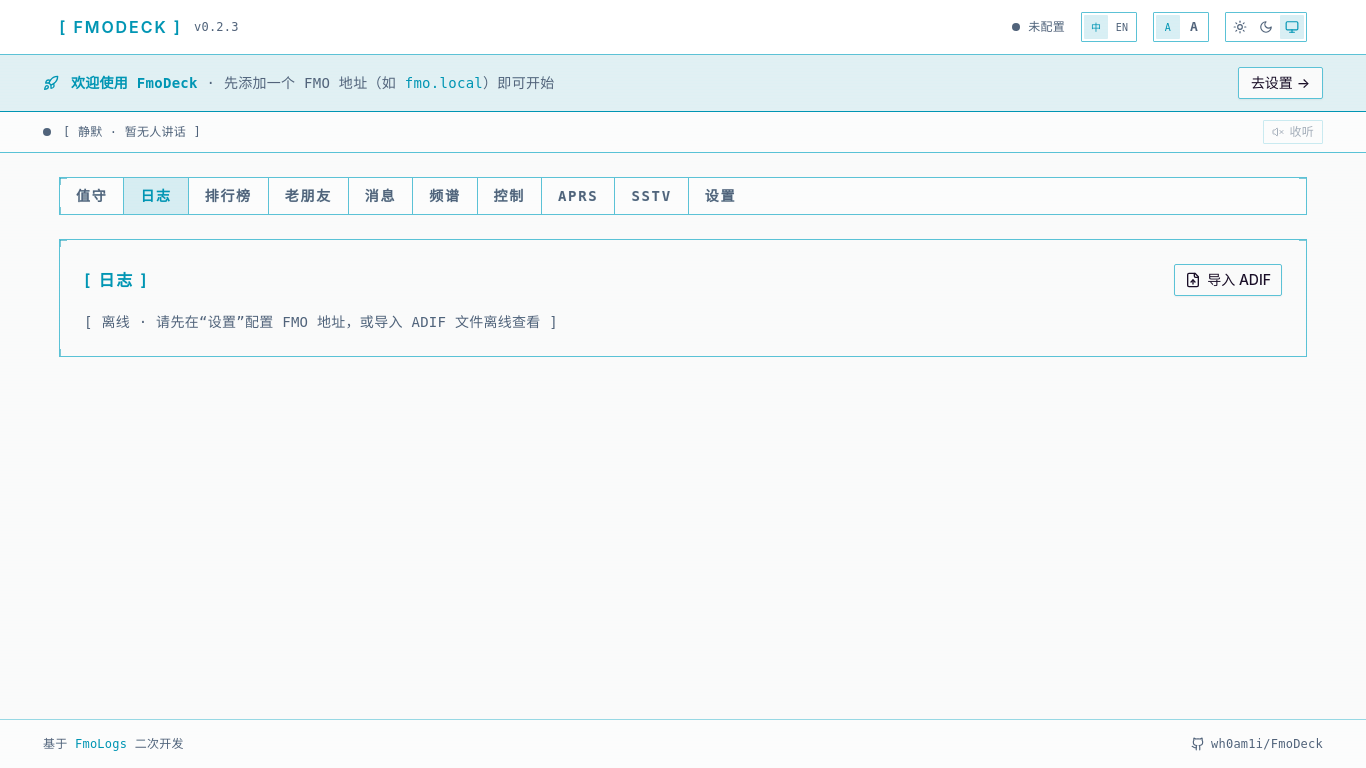
Test: App 烟雾测试 › Nav 跳 SSTV，显示 offline 提示
Click the link "SSTV".
click(652, 196)  # box left=615, top=178, right=689, bottom=214
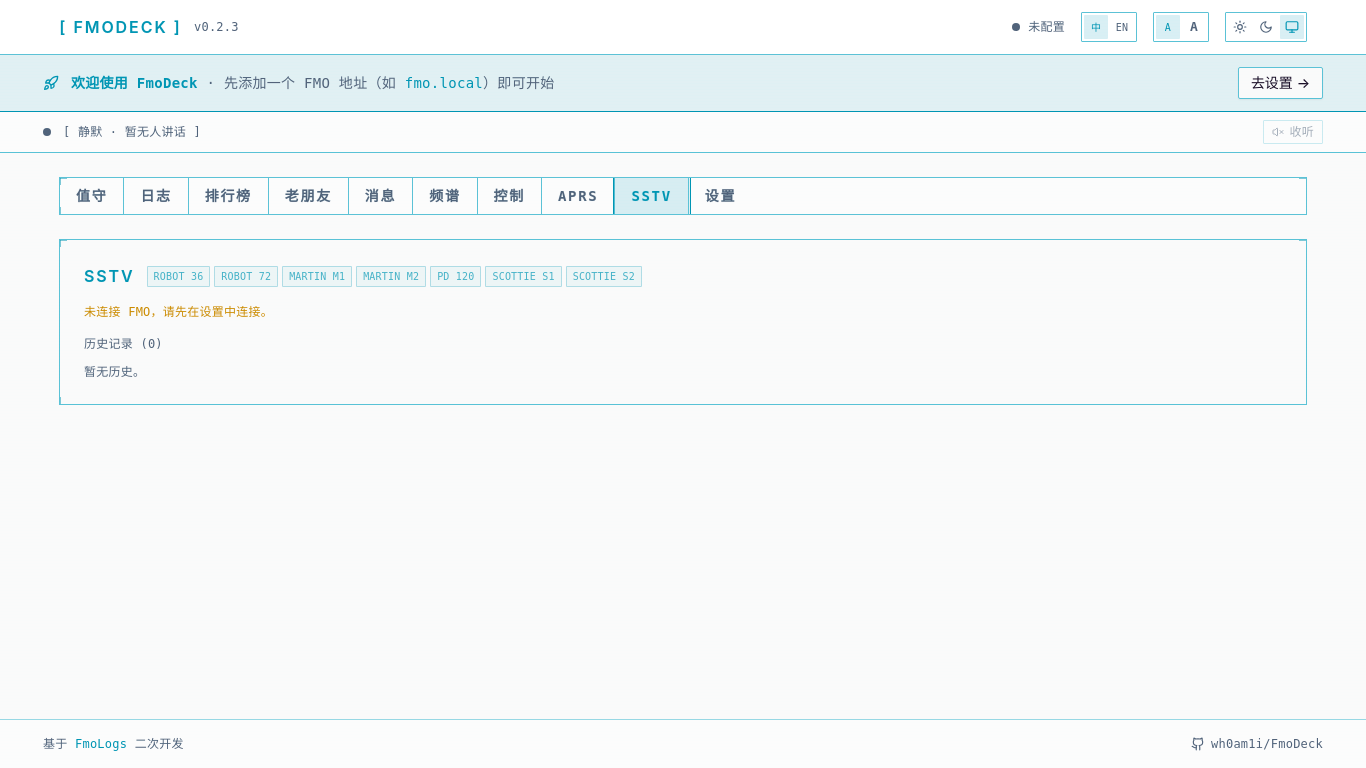
Check: the heading "SSTV" is shown, box left=84, top=264, right=135, bottom=288
Check: the text "未连接 FMO，请先在设置中连接。" is shown, box left=84, top=305, right=273, bottom=319
